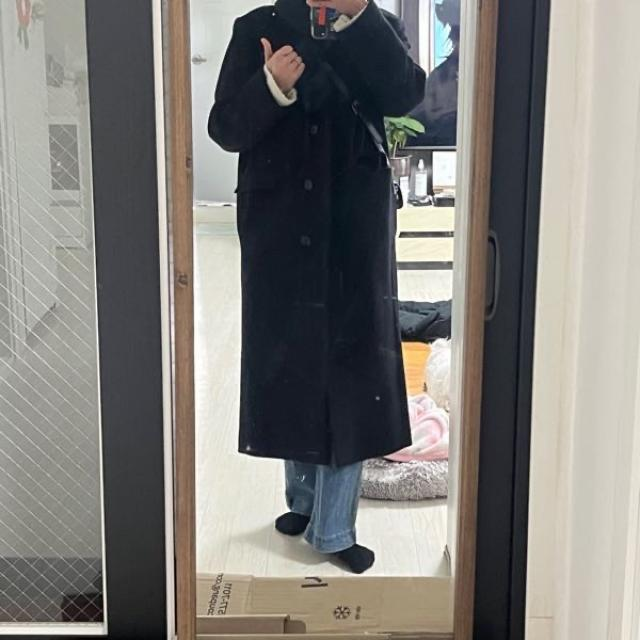coat: (208, 0, 428, 471)
denimpants: (284, 459, 361, 553)
